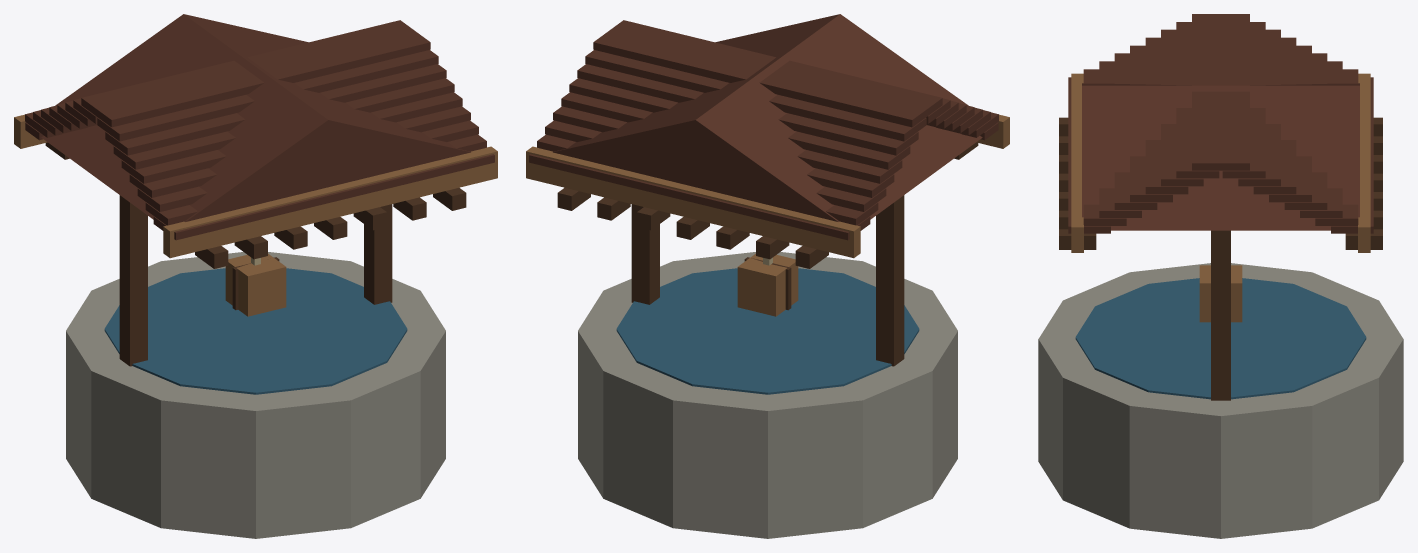
The model's file is well.glb.
3 renders of one model, left to right at view 1: azimuth 30°, elevation 25°; view 2: azimuth 150°, elevation 25°; view 3: azimuth 270°, elevation 25°, orthographic. The views are drawn at different scales.
Visible parts, largest first — view 1: well; view 2: well; view 3: well.
Boxes of the visible parts, left/top/right/bottom form: well: left=14, top=14, right=497, bottom=538; well: left=526, top=14, right=1009, bottom=538; well: left=1038, top=14, right=1403, bottom=538.
Bounding box in the file's own units: 2.56 × 2.91 × 2.56.
